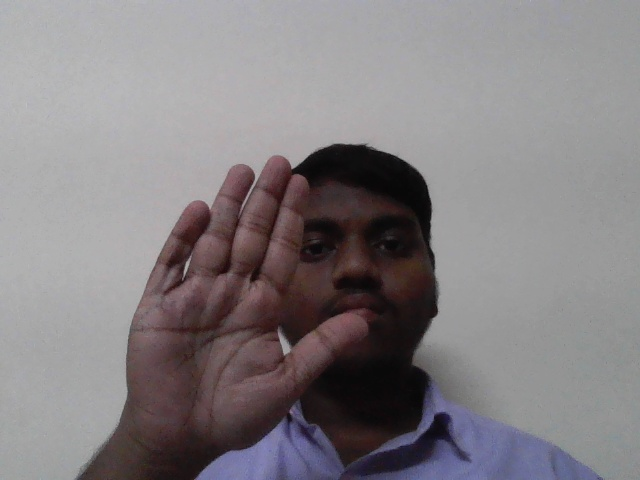Hello: (82, 144, 371, 457)
